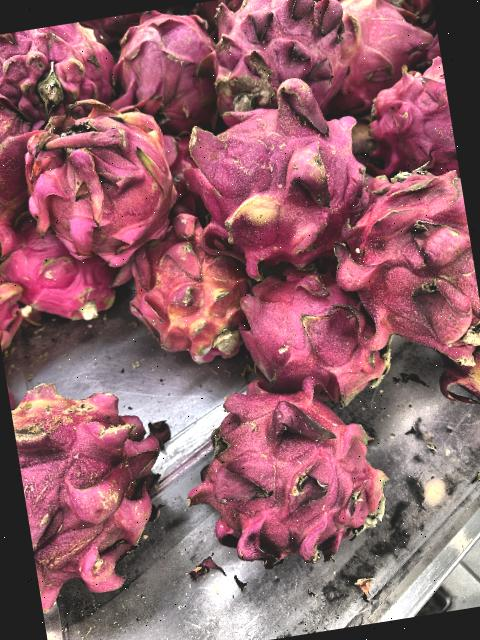buah-naga-belum-matang: (174, 75, 376, 274), (14, 90, 182, 262), (123, 214, 257, 368)
buah-naga-matang: (7, 354, 194, 614), (179, 362, 403, 574), (328, 149, 480, 384), (230, 253, 394, 422), (196, 0, 363, 119), (345, 47, 459, 185), (0, 222, 122, 340), (106, 2, 220, 128), (0, 20, 103, 123), (332, 0, 438, 94), (0, 69, 43, 253)
